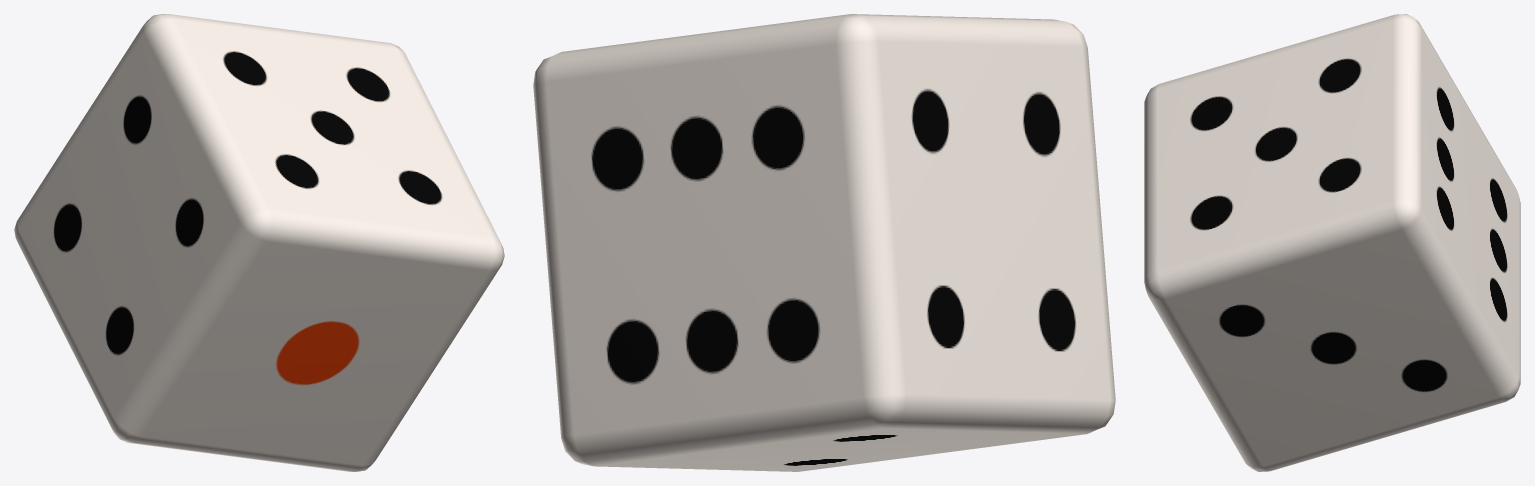
Rendered from dice_2_Anim.fbx.
The picture shows the model from 3 angles, left to right: view 1: azimuth 30°, elevation 25°; view 2: azimuth 150°, elevation 25°; view 3: azimuth 270°, elevation 25°; orthographic projection. The views are drawn at different scales.
Visible parts, largest first — view 1: dice2:pCube1; view 2: dice2:pCube1; view 3: dice2:pCube1.
Part boxes in pixels (<box>): dice2:pCube1: <box>14,14,504,471</box>; dice2:pCube1: <box>533,14,1115,471</box>; dice2:pCube1: <box>1144,14,1520,471</box>.
Size of the model in its own units: 0.8071 by 0.905 by 0.7696.
